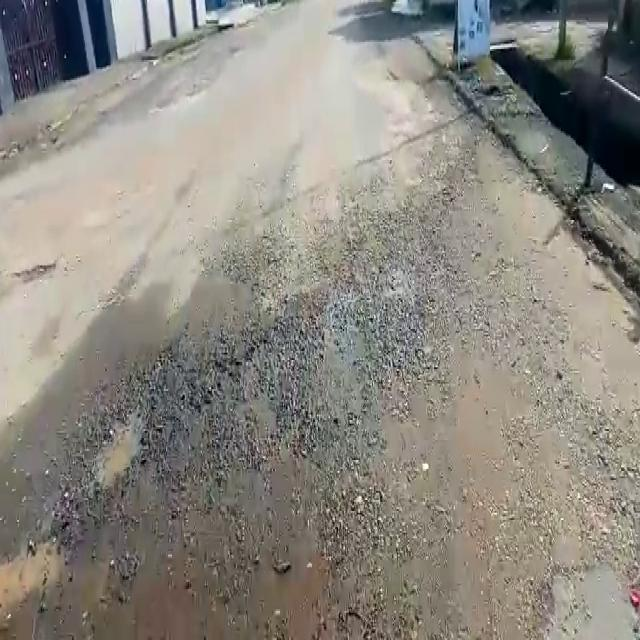Pothole: (92, 402, 146, 494)
